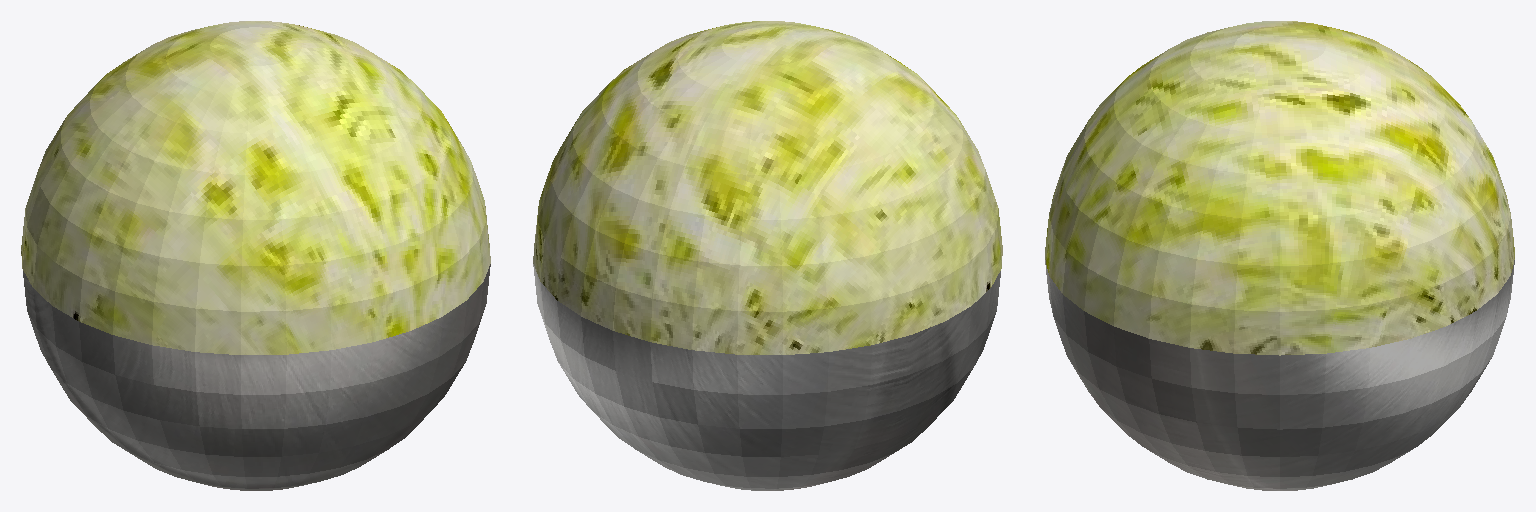
3 views of the same model, side by side, from view 1: azimuth 30°, elevation 25°; view 2: azimuth 150°, elevation 25°; view 3: azimuth 270°, elevation 25° (orthographic).
Visible parts, largest first — view 1: 球; view 2: 球; view 3: 球.
Boxes of the visible parts, <box> form: 球: <box>21,21,490,490</box>; 球: <box>533,21,1002,490</box>; 球: <box>1045,21,1514,490</box>.
Size of the model in its own units: 2 by 2 by 2.
2 materials, 2 textured.